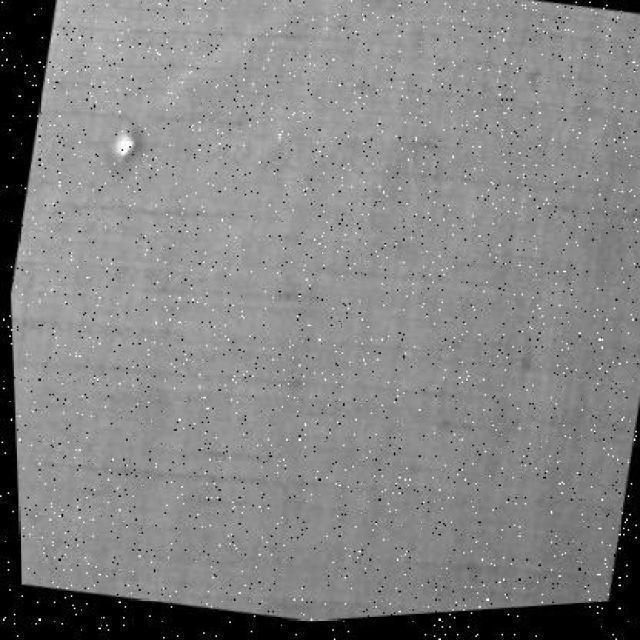seam: (85, 108, 186, 212)
